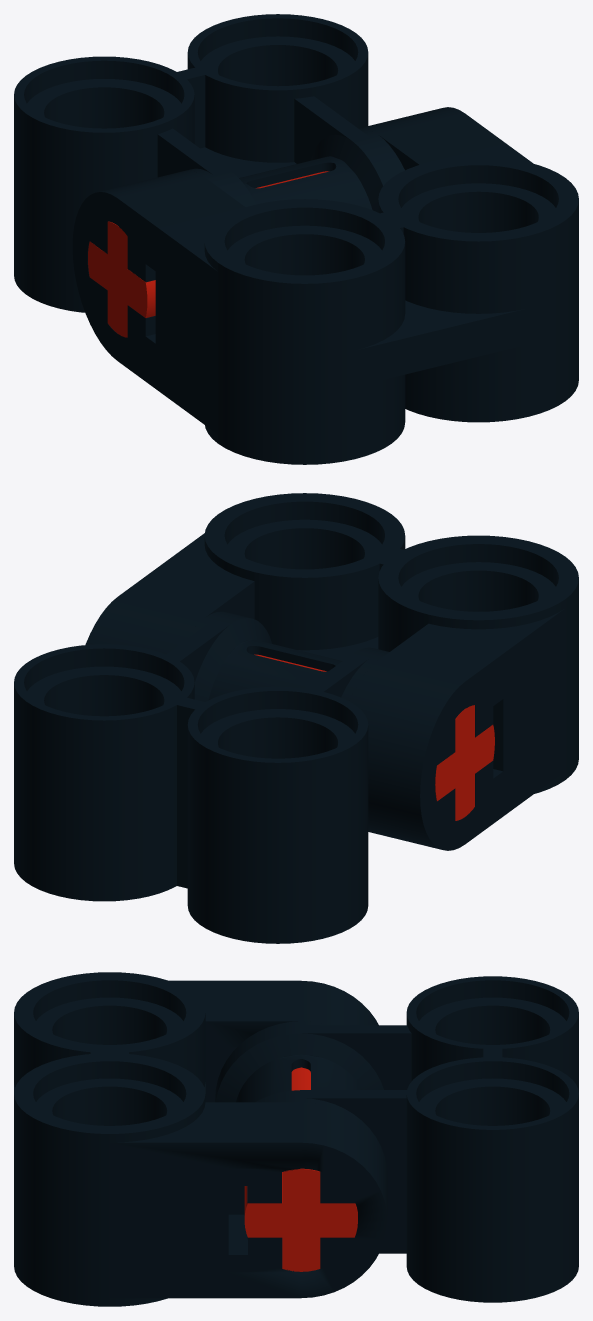
File: parallel_con.glb
3 renders of one model, top to bottom at view 1: azimuth 30°, elevation 25°; view 2: azimuth 150°, elevation 25°; view 3: azimuth 270°, elevation 25°, orthographic. The views are drawn at different scales.
Visible parts, largest first — view 1: 41678.dat, 32291.dat, 32062.dat; view 2: 32291.dat, 41678.dat, 32062.dat; view 3: 41678.dat, 32291.dat, 32062.dat.
Boxes of the visible parts, x1,y1,x2,y2 form: 41678.dat: [72, 107, 578, 464]; 32291.dat: [14, 14, 404, 312]; 32062.dat: [88, 171, 328, 337]; 32291.dat: [14, 611, 389, 943]; 41678.dat: [85, 493, 578, 850]; 32062.dat: [254, 654, 494, 820]; 41678.dat: [14, 972, 387, 1306]; 32291.dat: [215, 976, 578, 1302]; 32062.dat: [244, 1067, 357, 1271].
Bounding box in the file's own units: 0.398 × 0.198 × 0.5869.
